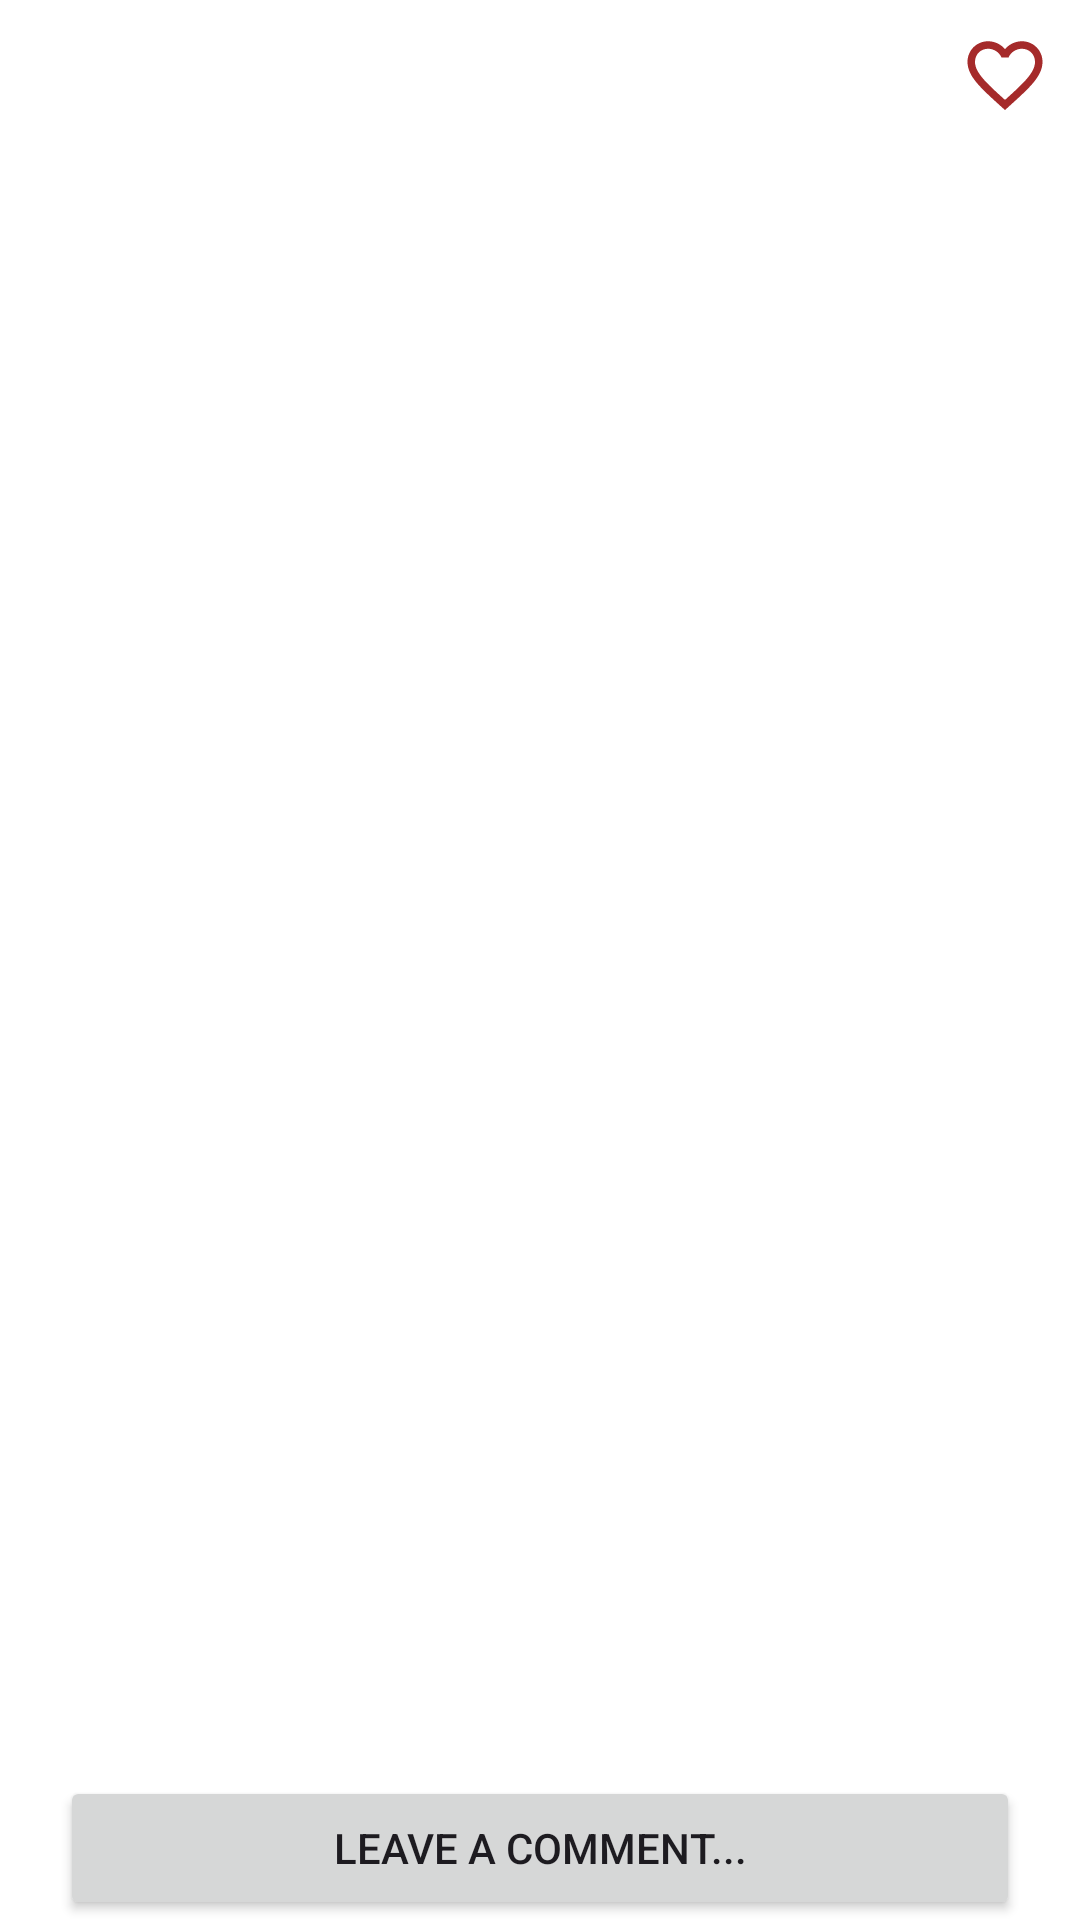

Screen size 1080×1920. Icon name, then its box in pixels as (x1, y1, x2, y2):
favorite: (967, 41, 1043, 110)
